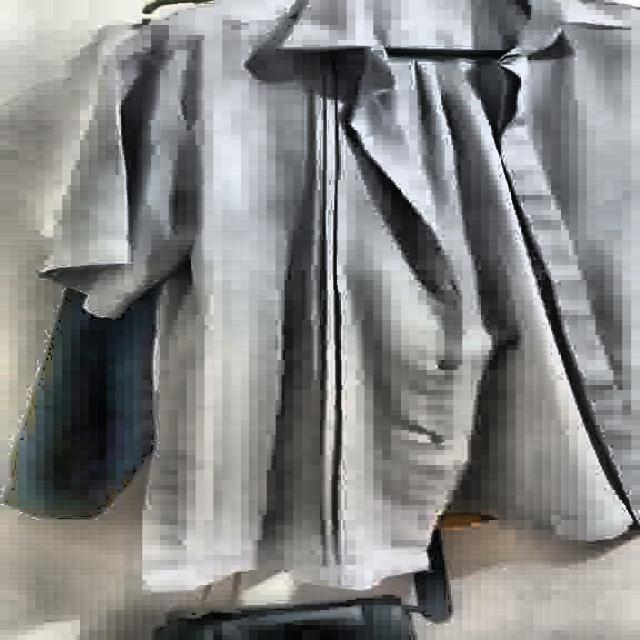clothes: (23, 0, 632, 614)
